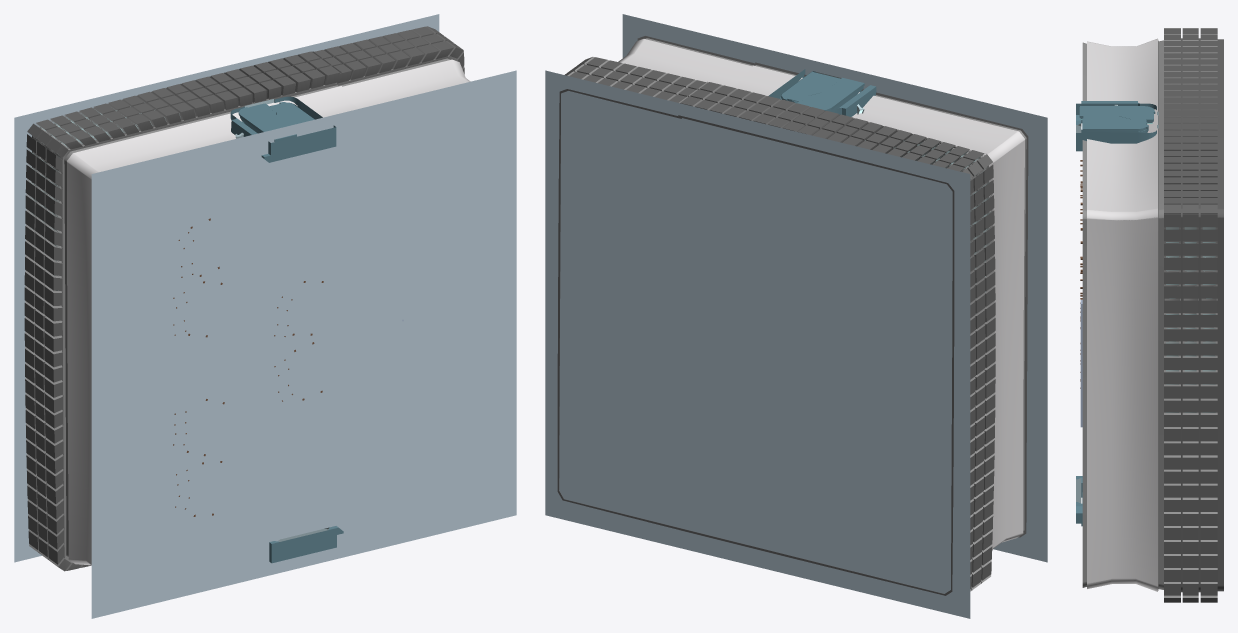
File: m_SmallRoom_2_WithDoors_Conference.fbx
The picture shows the model from 3 angles, left to right: view 1: azimuth 30°, elevation 25°; view 2: azimuth 150°, elevation 25°; view 3: azimuth 270°, elevation 25°; orthographic projection. The views are drawn at different scales.
Parts seen in each view (by area): view 1: m_floor.001, m_wall, m_ceiling.001, Door_top, Door_top.001, DoorRight; view 2: m_ceiling.001, m_wall, m_floor.001, DoorRight, Door_top, DoorLeft; view 3: m_wall, Door_top, DoorLeft, DoorRight, m_projectorScreen.001, Door_top.001.
Part boxes in pixels (x1,y1,x2,y2): m_floor.001: (91,70,516,618); m_wall: (24,26,470,571); m_ceiling.001: (14,14,439,562); Door_top: (230,96,336,162); Door_top.001: (269,526,343,563); DoorRight: (238,103,296,141); m_ceiling.001: (545,70,970,618); m_wall: (557,36,1028,595); m_floor.001: (622,14,1047,562); DoorRight: (797,77,864,111); Door_top: (769,69,876,116); DoorLeft: (780,71,841,102); m_wall: (1082,28,1223,602); Door_top: (1076,101,1158,151); DoorLeft: (1082,115,1148,132); DoorRight: (1079,106,1155,123); m_projectorScreen.001: (1080,299,1082,427); Door_top.001: (1076,476,1082,526).
Size of the model in its own units: 1515 by 1515 by 492.
